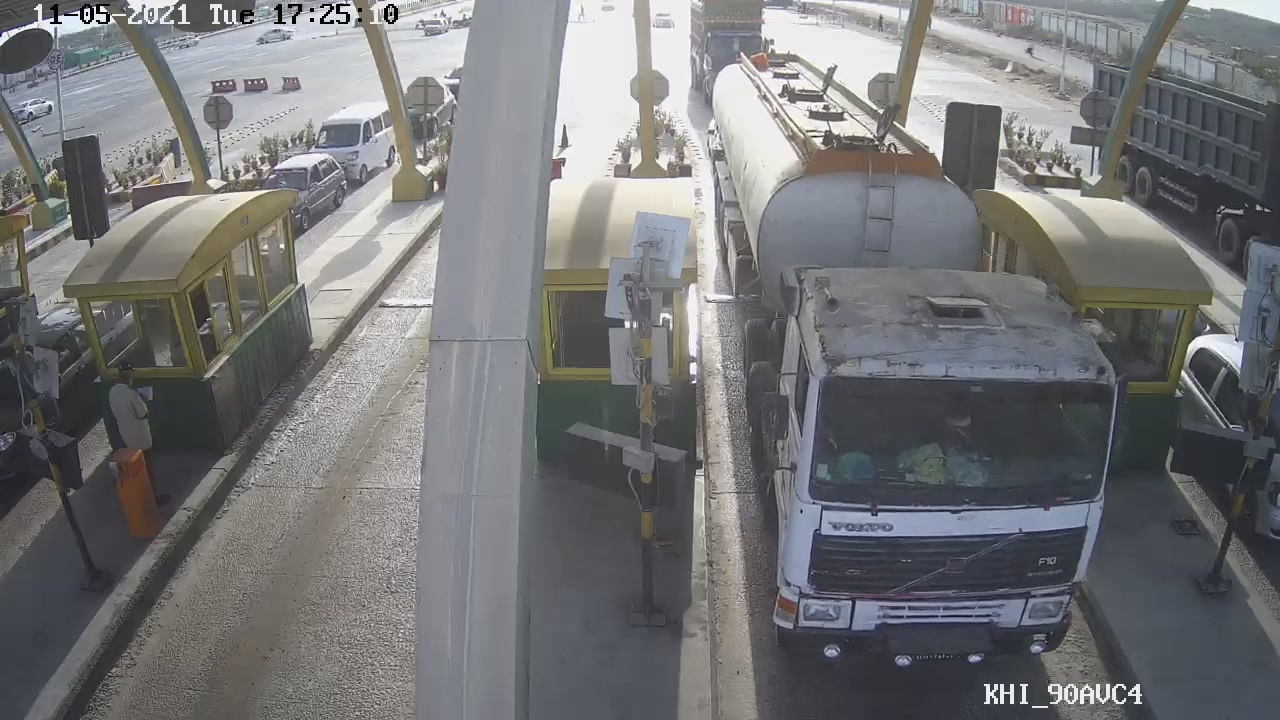F6: (696, 54, 1116, 670)
